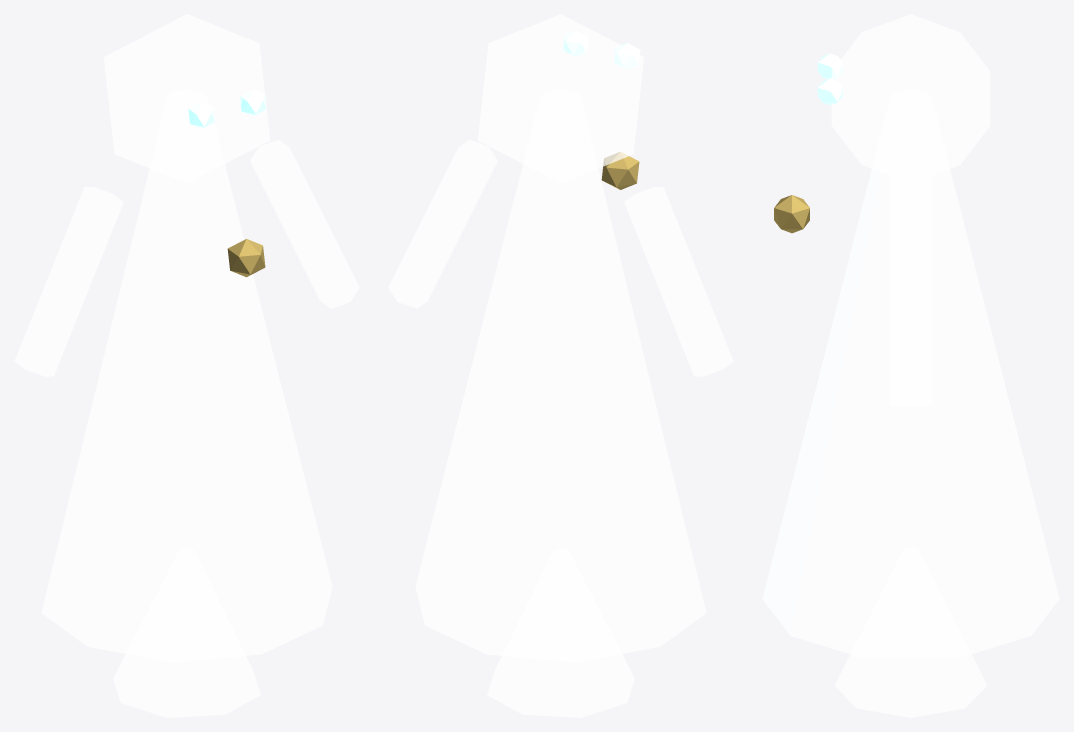
The model's file is ghost.glb.
3 renders of one model, left to right at view 1: azimuth 30°, elevation 25°; view 2: azimuth 150°, elevation 25°; view 3: azimuth 270°, elevation 25°, orthographic.
Visible parts, largest first — view 1: body, head, wisp, arm_l, arm_r, chain_link, eye_l, eye_r; view 2: body, head, wisp, arm_l, arm_r, chain_link; view 3: body, head, wisp, arm_r, arm_l, chain_link, eye_r, eye_l.
Boxes of the visible parts, box(x1,y1,x2,y2) form: body: box(41, 90, 332, 662); head: box(103, 14, 269, 183); wisp: box(113, 548, 260, 717); arm_l: box(14, 187, 123, 376); arm_r: box(250, 140, 359, 308); chain_link: box(227, 239, 265, 277); eye_l: box(188, 102, 214, 128); eye_r: box(240, 89, 266, 115); body: box(415, 90, 706, 662); head: box(478, 14, 644, 183); wisp: box(487, 548, 634, 717); arm_l: box(624, 187, 733, 376); arm_r: box(388, 140, 497, 308); chain_link: box(601, 152, 639, 189); body: box(762, 90, 1059, 658); head: box(831, 14, 990, 182); wisp: box(834, 547, 987, 717); arm_r: box(889, 214, 932, 405); arm_l: box(890, 176, 931, 213); chain_link: box(774, 195, 809, 233); eye_r: box(817, 78, 842, 105); eye_l: box(817, 53, 842, 79).
Bounding box in the file's own units: 0.9087 × 1.74 × 0.7.
